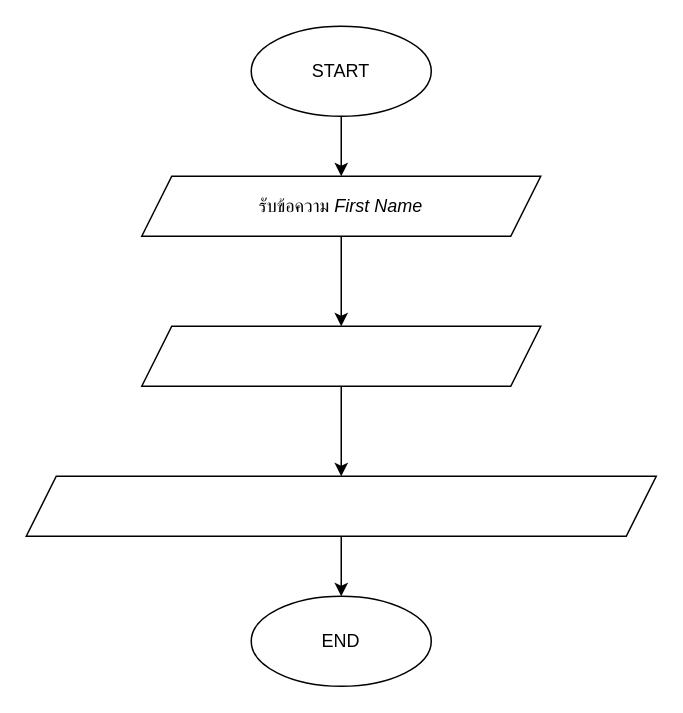
This 683x713 diagram has some shape labels left out. The centre of each missing label's shape, as x and y in pixels:
รับข้อความ Last Name: pixel 340 355
แสดง " First Name Last Name TC, RMUTL, Chiang Mai, Thailand": pixel 340 505
